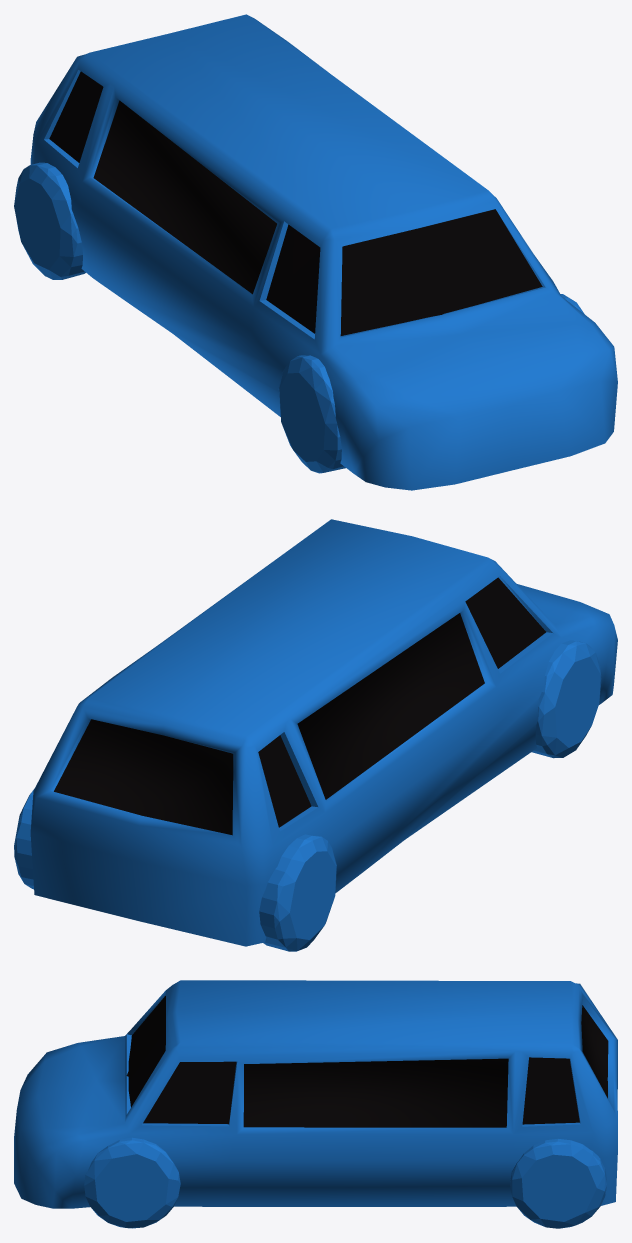
File: bluelimousine.obj
The picture shows the model from 3 angles, top to bottom: view 1: azimuth 30°, elevation 25°; view 2: azimuth 150°, elevation 25°; view 3: azimuth 270°, elevation 25°; orthographic projection. The views are drawn at different scales.
Visible parts, largest first — view 1: blue; view 2: blue; view 3: blue.
Part boxes in pixels (x1,y1,x2,y2): blue: [14, 14, 617, 490]; blue: [14, 519, 617, 951]; blue: [14, 980, 617, 1228].
Size of the model in its own units: 2.17 by 1.56 by 5.1.
